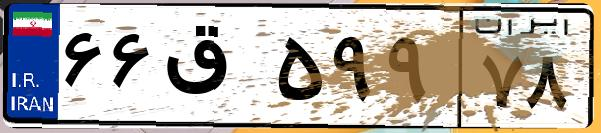5: (270, 28, 330, 110)
6: (57, 26, 110, 100), (110, 28, 158, 98)
7: (475, 38, 525, 113)
8: (525, 38, 570, 115)
9: (385, 28, 445, 110), (330, 28, 385, 110)
ق: (158, 20, 270, 120)
